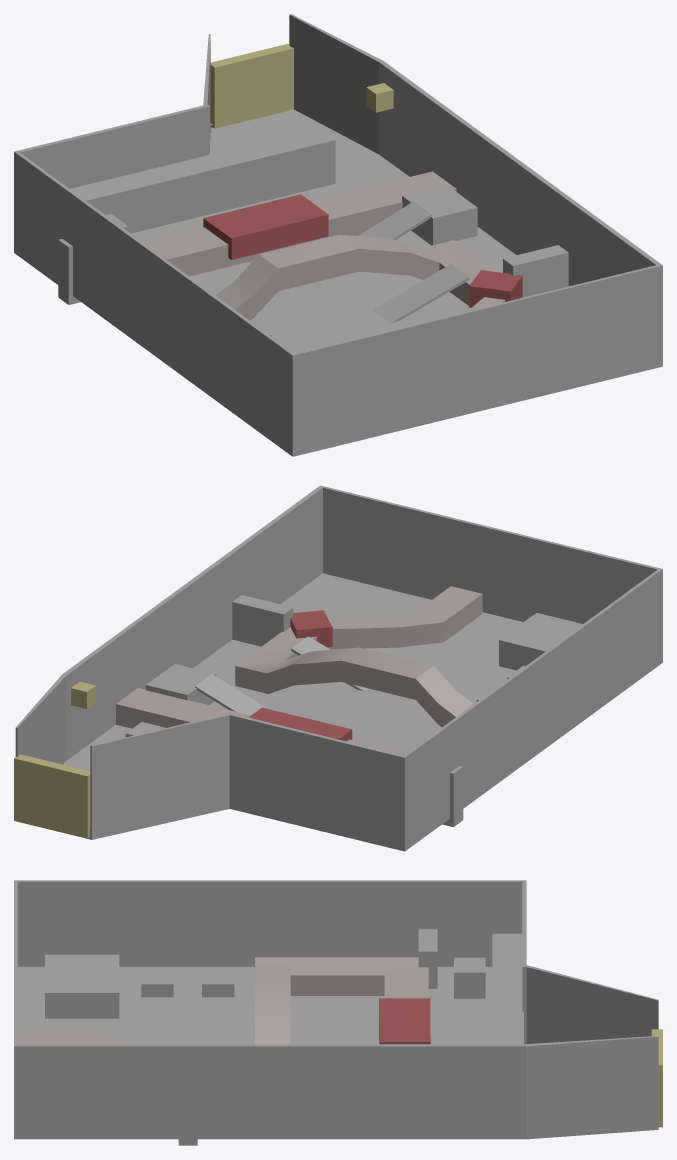
Rendered from conveyor belt.fbx.
3 renders of one model, top to bottom at view 1: azimuth 30°, elevation 25°; view 2: azimuth 150°, elevation 25°; view 3: azimuth 270°, elevation 25°, orthographic. The views are drawn at different scales.
Visible parts, largest first — view 1: pCube1, pCube2, pCube10, pCube13, pCube3, pCube9, pCube14, pCube4, pCube8, pCube16, pCube15, pCube12; view 2: pCube1, pCube2, pCube13, pCube5, pCube14, pCube9, pCube3, pCube16, pCube8, pCube15, pCube12; view 3: pCube1, pCube2, pCube5, pCube10, pCube3, pCube11, pCube6, pCube7, pCube15, pCube13.
Part boxes in pixels (x1=…): pCube1: x1=14, y1=14, x2=662, y2=456; pCube2: x1=143, y1=171, x2=505, y2=320; pCube10: x1=70, y1=127, x2=335, y2=233; pCube13: x1=210, y1=44, x2=293, y2=128; pCube3: x1=203, y1=194, x2=328, y2=259; pCube9: x1=402, y1=185, x2=477, y2=245; pCube14: x1=503, y1=245, x2=568, y2=297; pCube4: x1=372, y1=264, x2=469, y2=323; pCube8: x1=469, y1=270, x2=522, y2=307; pCube16: x1=359, y1=201, x2=432, y2=239; pCube15: x1=58, y1=239, x2=80, y2=304; pCube12: x1=366, y1=83, x2=393, y2=112; pCube1: x1=15, y1=485, x2=662, y2=851; pCube2: x1=116, y1=586, x2=482, y2=755; pCube13: x1=14, y1=754, x2=90, y2=838; pCube5: x1=499, y1=612, x2=582, y2=670; pCube14: x1=232, y1=595, x2=293, y2=646; pCube9: x1=146, y1=664, x2=216, y2=704; pCube3: x1=248, y1=707, x2=352, y2=741; pCube16: x1=195, y1=674, x2=267, y2=715; pCube8: x1=290, y1=610, x2=332, y2=647; pCube15: x1=442, y1=766, x2=463, y2=826; pCube12: x1=71, y1=681, x2=95, y2=708; pCube1: x1=14, y1=880, x2=658, y2=1139; pCube2: x1=21, y1=957, x2=428, y2=1044; pCube5: x1=45, y1=954, x2=119, y2=1018; pCube10: x1=492, y1=933, x2=523, y2=1044; pCube3: x1=379, y1=998, x2=430, y2=1044; pCube11: x1=454, y1=957, x2=485, y2=998; pCube6: x1=141, y1=967, x2=173, y2=997; pCube7: x1=202, y1=967, x2=234, y2=997; pCube15: x1=418, y1=929, x2=437, y2=988; pCube13: x1=651, y1=1029, x2=662, y2=1127.
Bounding box in the file's own units: 27.59 × 7.71 × 45.06.
